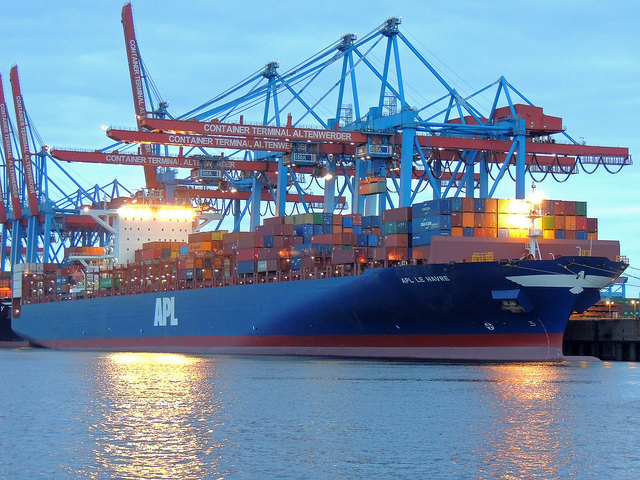container_ship: (11, 188, 629, 366)
